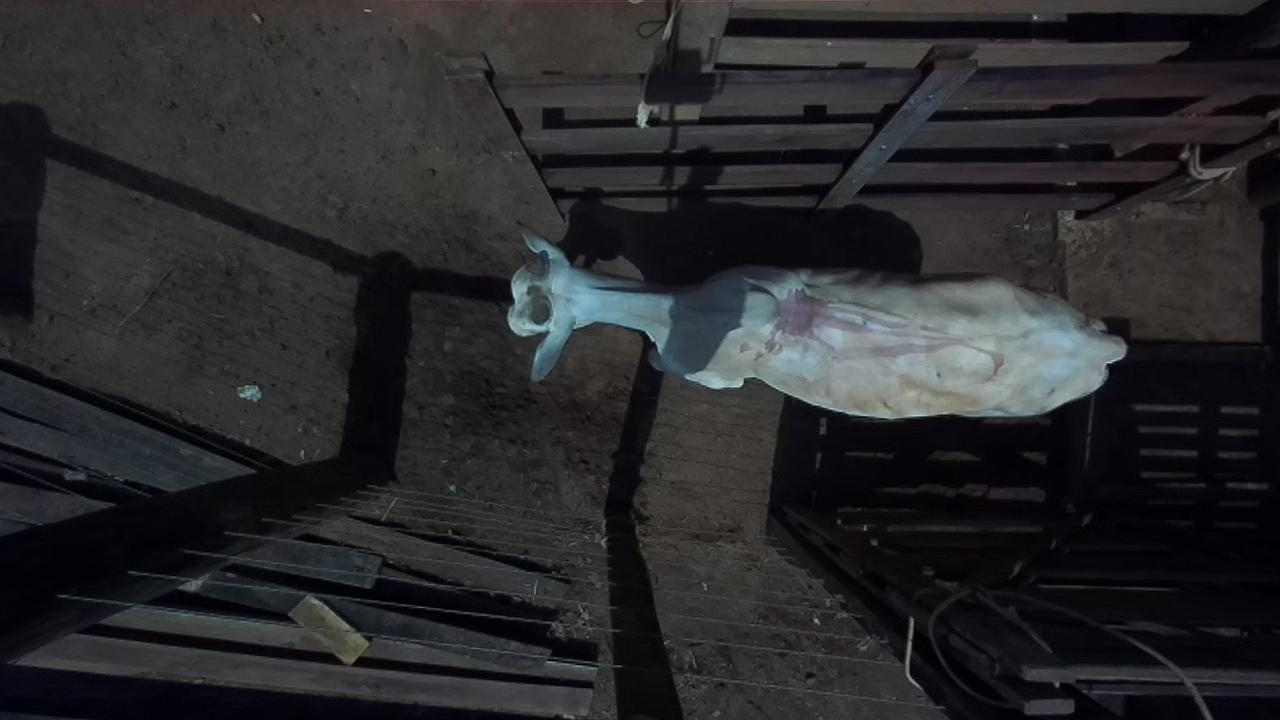cattle: (505, 224, 1128, 421)
